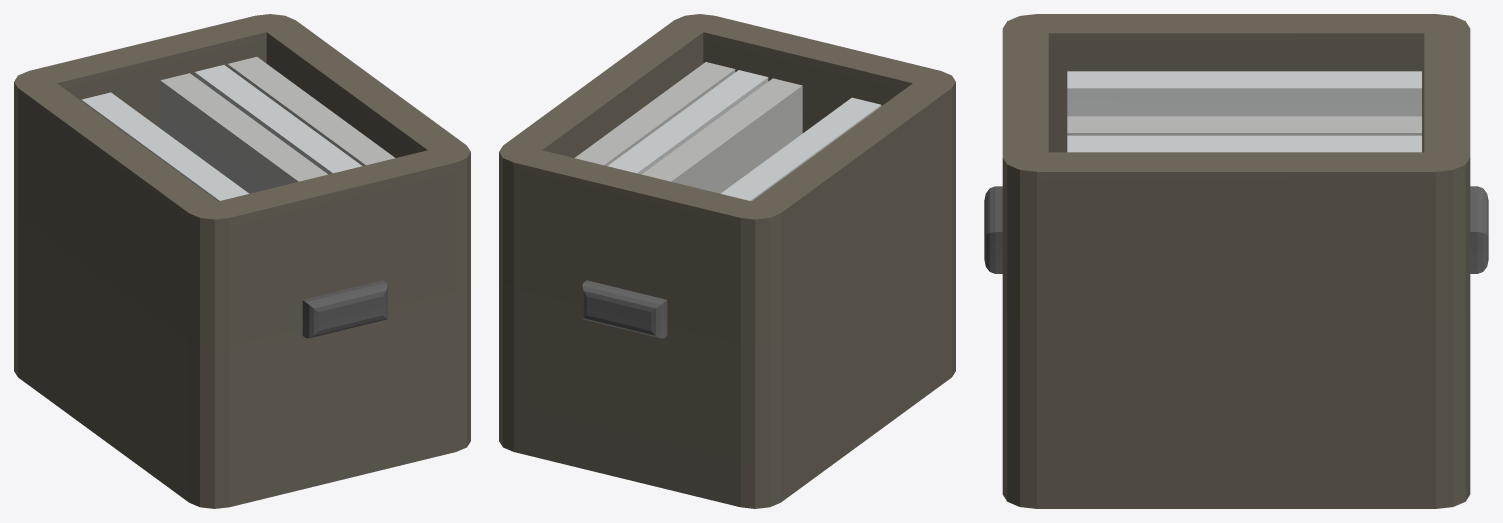
File: Paperholdingbox_v2.fbx
3 views of the same model, side by side, from view 1: azimuth 30°, elevation 25°; view 2: azimuth 150°, elevation 25°; view 3: azimuth 270°, elevation 25° (orthographic). The views are drawn at different scales.
Parts seen in each view (by area): view 1: Paperholdingbox_v2; view 2: Paperholdingbox_v2; view 3: Paperholdingbox_v2.
Part boxes in pixels (x1,y1,x2,y2): Paperholdingbox_v2: (14, 14, 470, 508); Paperholdingbox_v2: (499, 14, 955, 508); Paperholdingbox_v2: (984, 14, 1488, 508).
Bounding box in the file's own units: 32.84 × 32.7 × 44.34.
